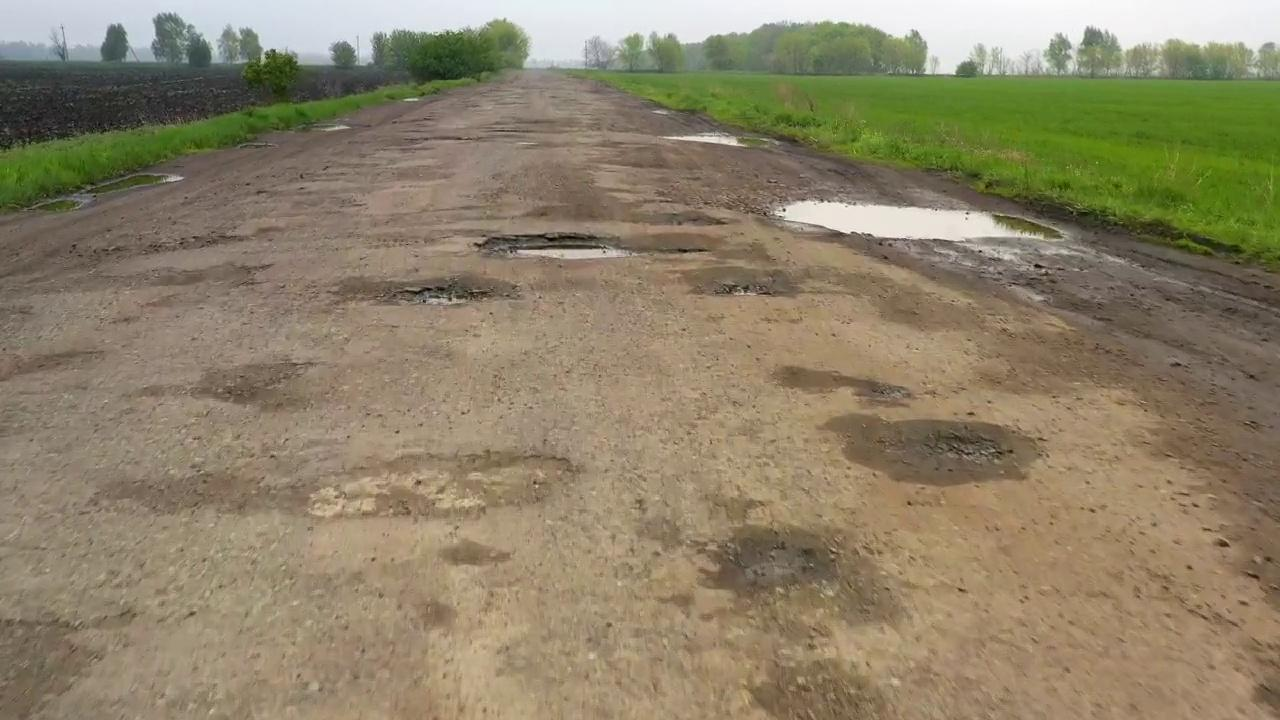bache: (777, 201, 1062, 241), (476, 232, 707, 259), (370, 275, 516, 304), (893, 435, 1013, 463), (713, 283, 772, 294)
